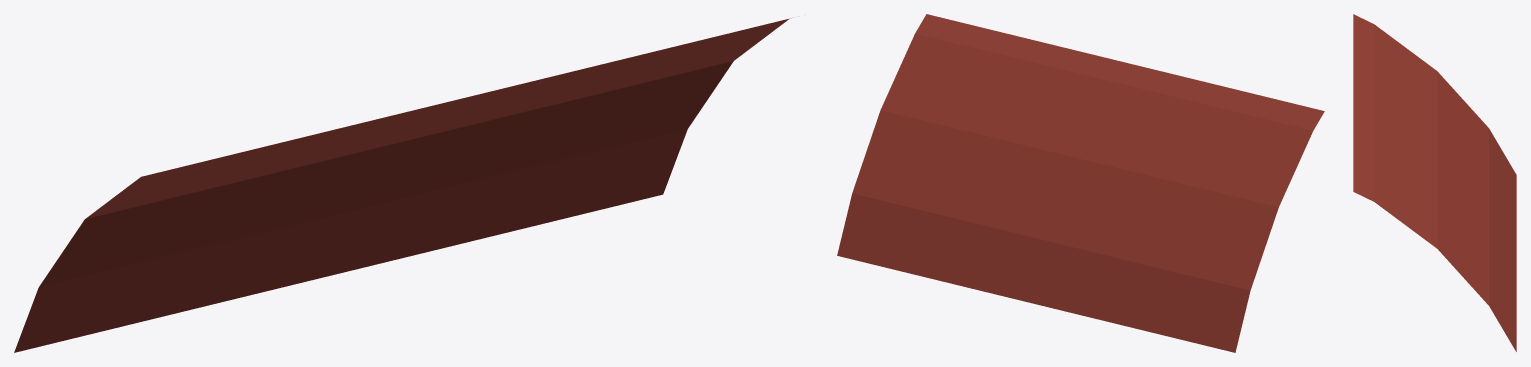
File: cell_56.obj
The picture shows the model from 3 angles, left to right: view 1: azimuth 30°, elevation 25°; view 2: azimuth 150°, elevation 25°; view 3: azimuth 270°, elevation 25°; orthographic projection. The views are drawn at different scales.
Bounding box in the file's own units: 1 × 0.4229 × 0.3889.
